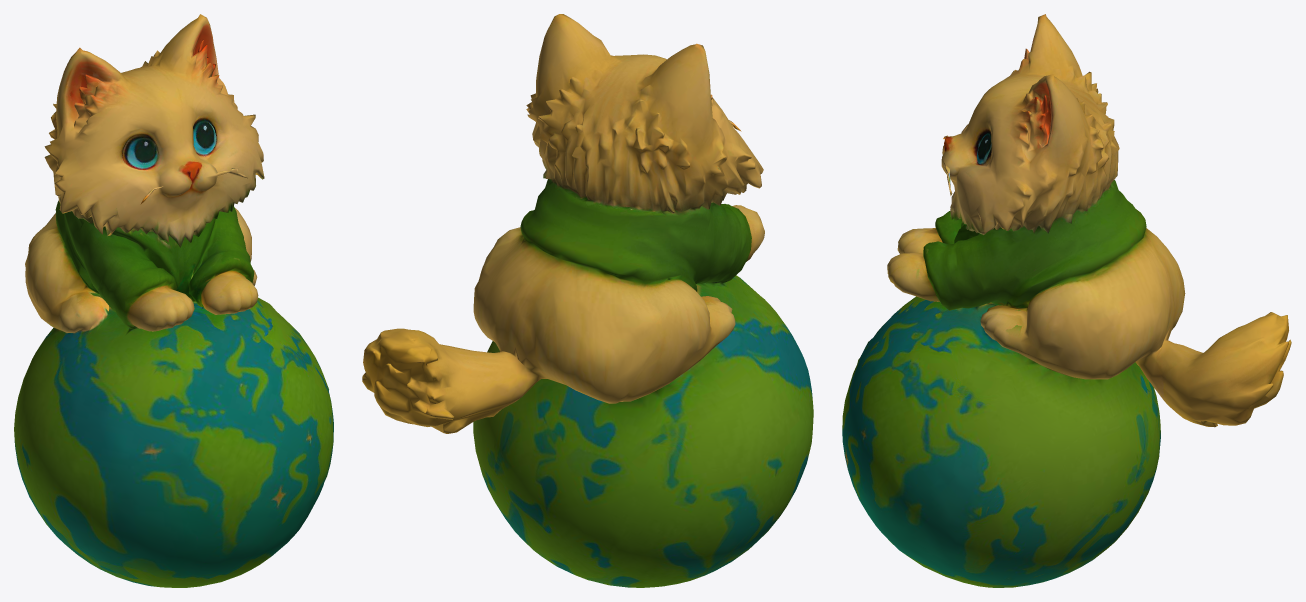
Rendered from bommie.glb.
3 renders of one model, left to right at view 1: azimuth 30°, elevation 25°; view 2: azimuth 150°, elevation 25°; view 3: azimuth 270°, elevation 25°, orthographic. The views are drawn at different scales.
Parts seen in each view (by area): view 1: TripoModel (1); view 2: TripoModel (1); view 3: TripoModel (1).
Part boxes in pixels (x1,y1,x2,y2): TripoModel (1): (14,14,333,587); TripoModel (1): (362,14,813,587); TripoModel (1): (842,14,1291,587).
Bounding box in the file's own units: 0.5548 × 1.01 × 0.7881.
Materials: 1 (1 with a texture image).
